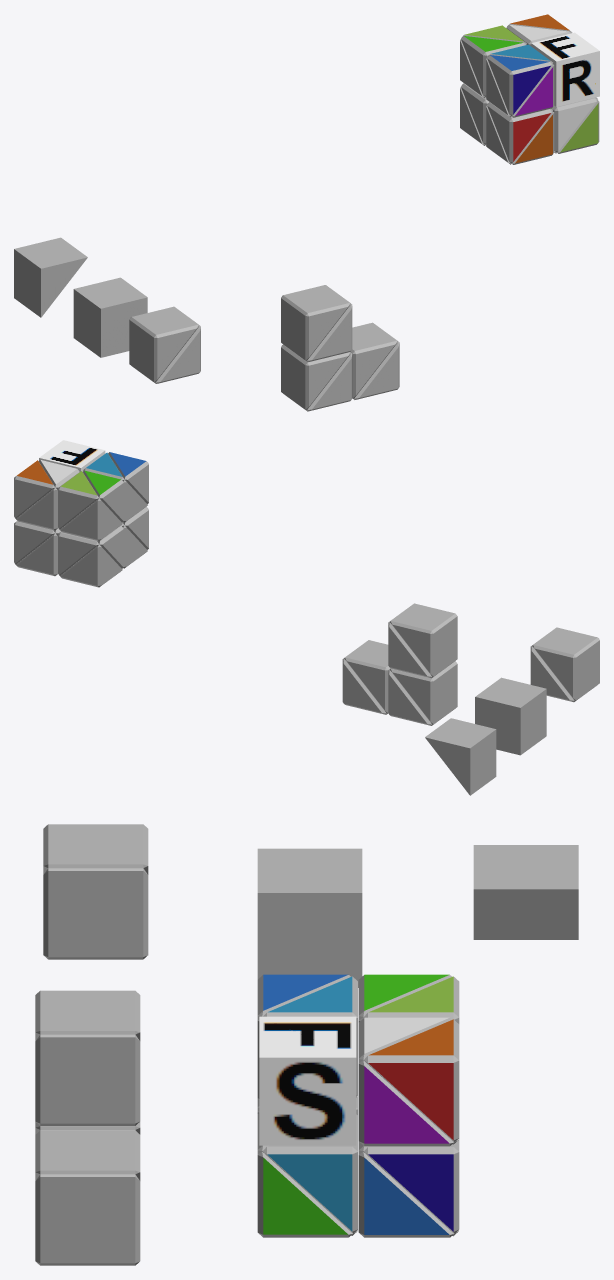
File: asset.glb
The picture shows the model from 3 angles, top to bottom: view 1: azimuth 30°, elevation 25°; view 2: azimuth 150°, elevation 25°; view 3: azimuth 270°, elevation 25°; orthographic projection. The views are drawn at different scales.
Visible parts, largest first — view 1: Cube, Cube.007, Cube.001, Cube.037, Cube.013, Cube.003, Cube.021, Cube.005, Cube.017, Cube.025, Cube.002, Cube.004 (+18 smaller); view 2: Cube, Cube.001, Cube.007, Cube.003, Cube.005, Cube.016, Cube.015, Cube.028, Cube.041, Cube.027, Orange, Cube.013 (+17 smaller); view 3: Cube.037, Cube, Cube.002, Cube.006, Cube.008, Cube.015, Orange, Cube.011, Cube.007, Cube.001, Cube.005, Cube.035 (+10 smaller).
Part boxes in pixels (x1,y1,x2,y2): Cube: (14, 237, 87, 317); Cube.007: (129, 306, 199, 382); Cube.001: (281, 285, 350, 360); Cube.037: (531, 32, 599, 106); Cube.013: (74, 289, 147, 357); Cube.003: (281, 344, 350, 409); Cube.021: (487, 55, 551, 115); Cube.005: (350, 322, 397, 398); Cube.017: (487, 102, 551, 163); Cube.025: (461, 36, 525, 96); Cube.002: (286, 303, 352, 362); Cube.004: (291, 352, 352, 411); Cube: (425, 718, 496, 795); Cube.001: (390, 603, 457, 676); Cube.007: (532, 627, 599, 700); Cube.003: (390, 661, 457, 724); Cube.005: (344, 640, 390, 713); Cube.016: (495, 708, 546, 755); Cube.015: (475, 678, 520, 728); Cube.028: (60, 498, 122, 541); Cube.041: (60, 544, 122, 587); Cube.027: (58, 471, 98, 529); Orange: (14, 460, 54, 518); Cube.013: (501, 677, 546, 735); Cube.037: (259, 1016, 356, 1145); Cube: (473, 845, 578, 939); Cube.002: (35, 1034, 140, 1125); Cube.006: (35, 1174, 140, 1265); Cube.008: (43, 868, 148, 959); Cube.015: (258, 849, 362, 983); Orange: (364, 1019, 459, 1142); Cube.011: (262, 1114, 357, 1233); Cube.007: (43, 824, 148, 874); Cube.001: (35, 990, 140, 1040); Cube.005: (35, 1130, 140, 1180); Cube.035: (364, 1138, 459, 1233).
Size of the model in its own units: 21.47 by 9.54 by 10.36.
11 materials, 1 textured.
